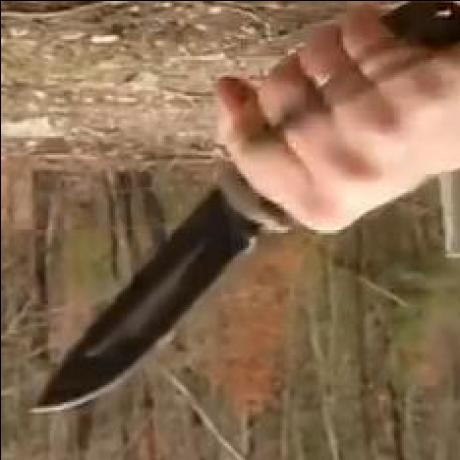1: (210, 0, 460, 232)
weapon: (24, 177, 259, 421)
